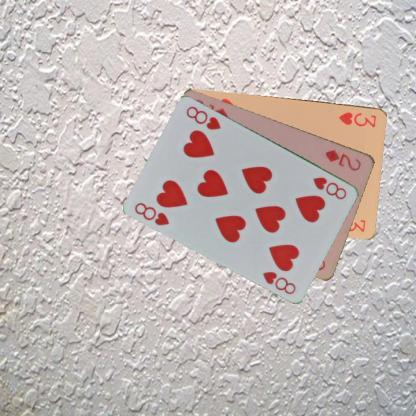2d: (322, 146, 363, 172)
3h: (336, 109, 378, 129)
8h: (132, 199, 170, 227), (310, 174, 348, 201)
